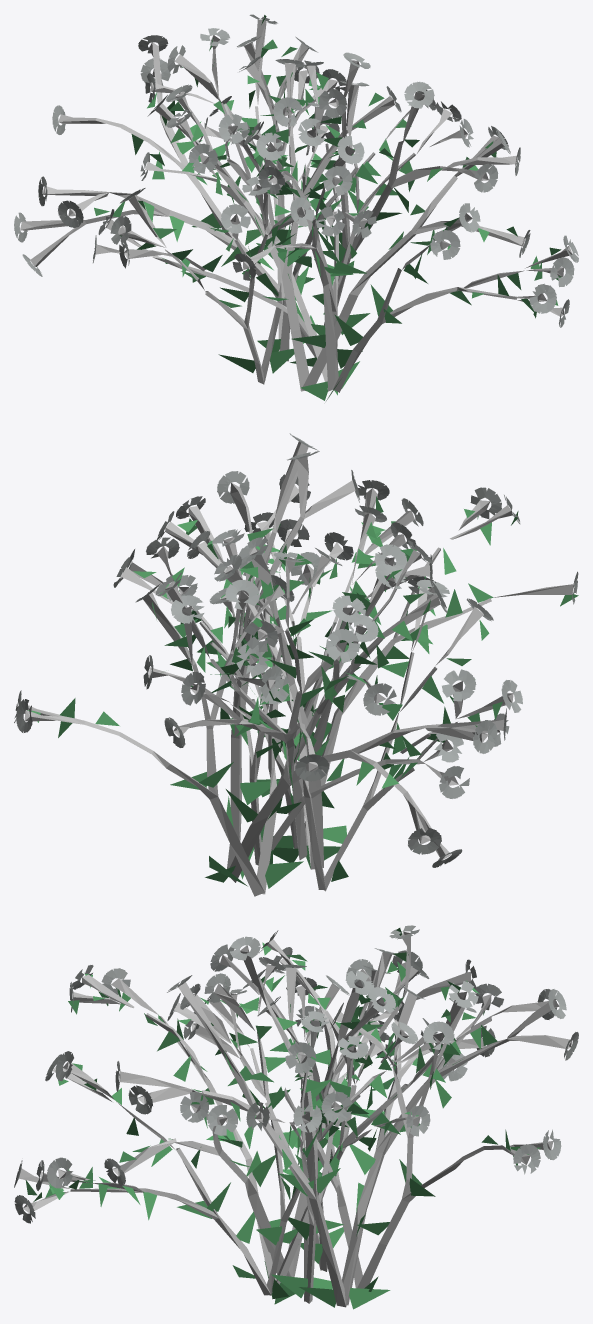
Rendered from DaisySmall.fbx.
The picture shows the model from 3 angles, top to bottom: view 1: azimuth 30°, elevation 25°; view 2: azimuth 150°, elevation 25°; view 3: azimuth 270°, elevation 25°; orthographic projection. The views are drawn at different scales.
Visible parts, largest first — view 1: daisySmall1Main, daisySmall1Flower, daisySmall1Leaf; view 2: daisySmall1Main, daisySmall1Flower, daisySmall1Leaf; view 3: daisySmall1Main, daisySmall1Leaf, daisySmall1Flower.
Part boxes in pixels (x1,y1,x2,y2): daisySmall1Main: [20, 19, 572, 392]; daisySmall1Flower: [14, 14, 578, 327]; daisySmall1Leaf: [94, 15, 561, 400]; daisySmall1Main: [24, 441, 574, 896]; daisySmall1Flower: [14, 433, 578, 867]; daisySmall1Leaf: [28, 496, 578, 888]; daisySmall1Main: [18, 931, 571, 1307]; daisySmall1Leaf: [25, 928, 540, 1309]; daisySmall1Flower: [14, 925, 578, 1223].
Bounding box in the file's own units: 1.23 × 1.09 × 1.53.
